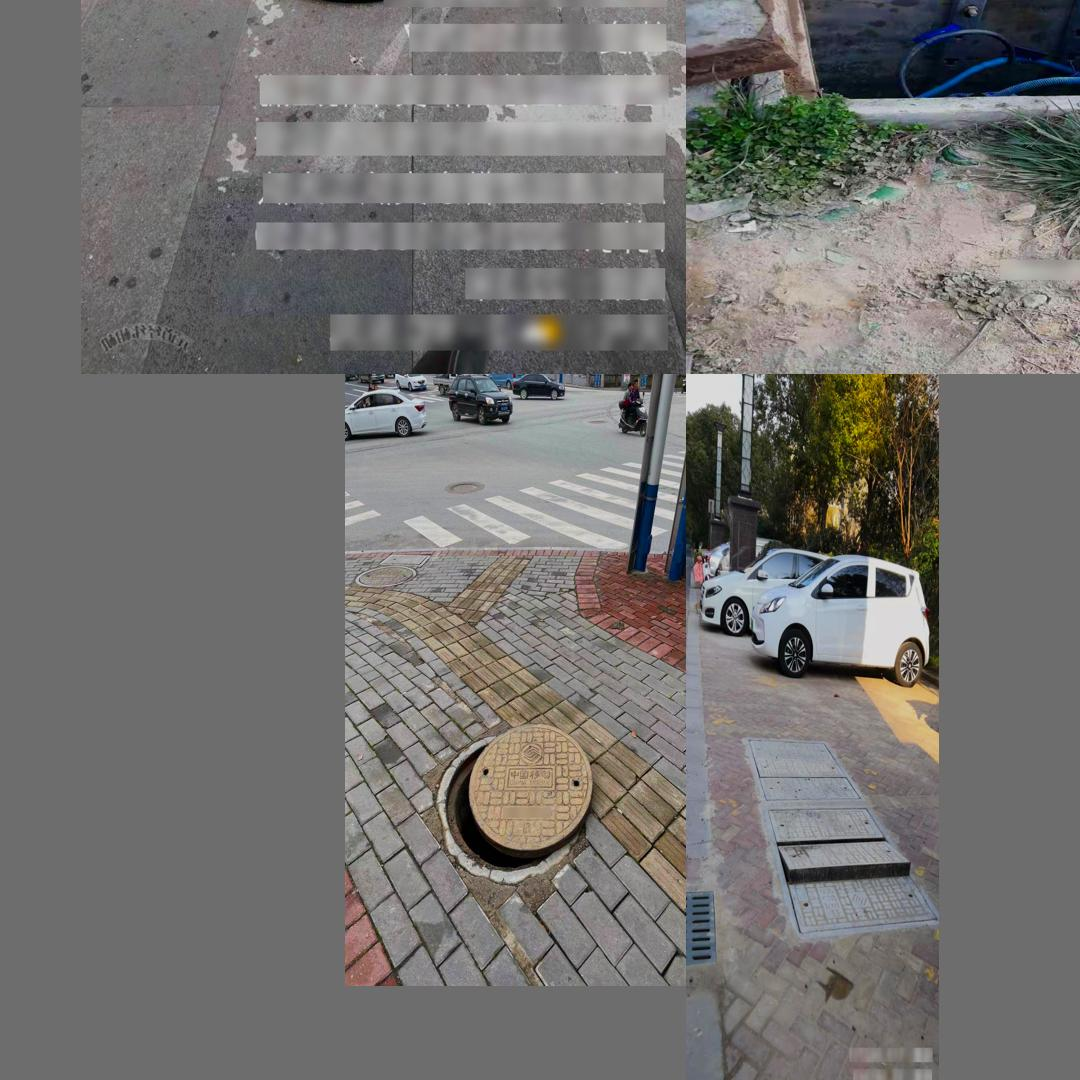good: (746, 734, 861, 803)
uncovered: (686, 0, 1080, 115), (436, 723, 593, 884), (764, 805, 938, 938), (260, 0, 469, 5)
